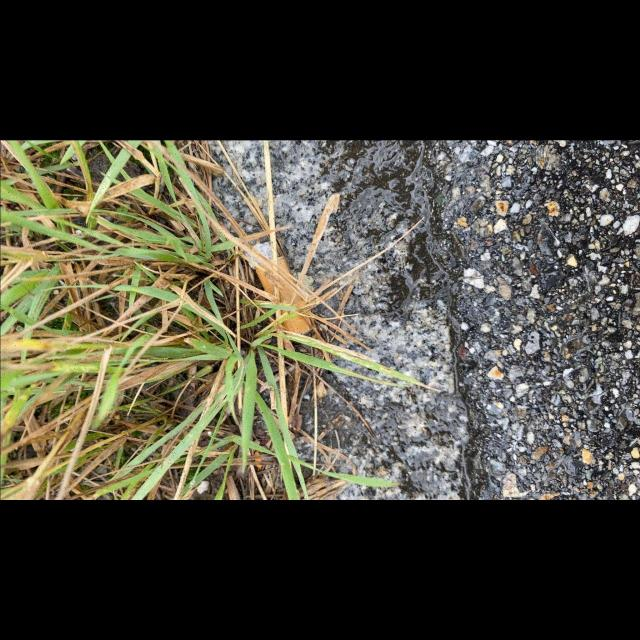cigarette: (244, 240, 312, 336)
